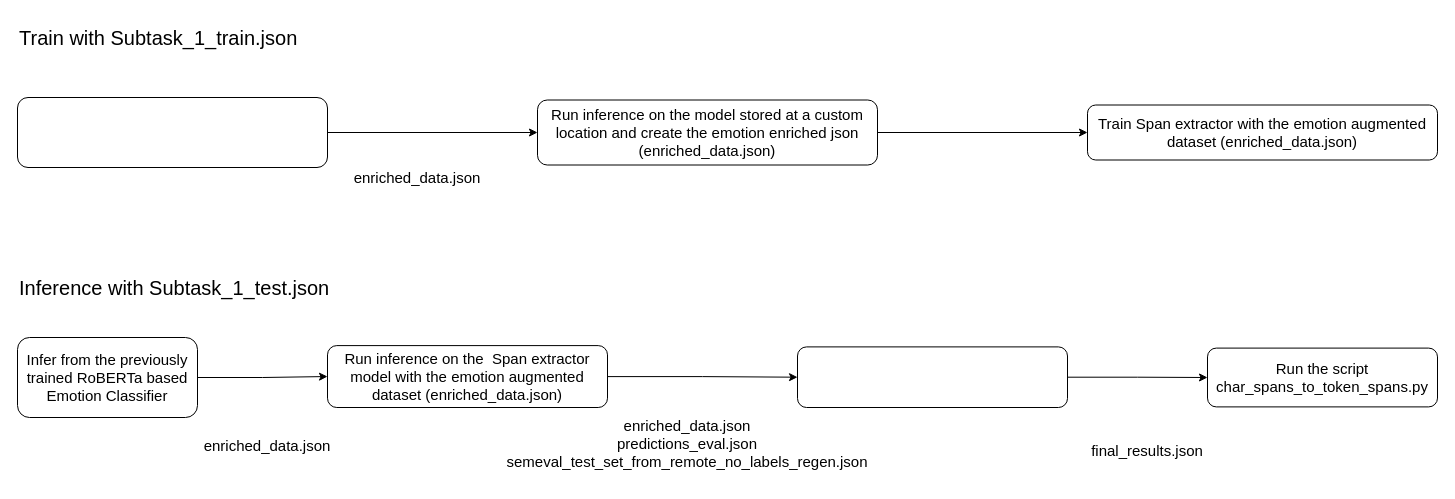
The diagram is 1455 pixels wide and 499 high, and some of its shapes have lost their labels. The centre of each missing label's shape, as x and y in pixels:
Run the script process_after_span_extraction.py: the point at 932,377
Train RoBERTa based Emotion Classifier: the point at 172,132
